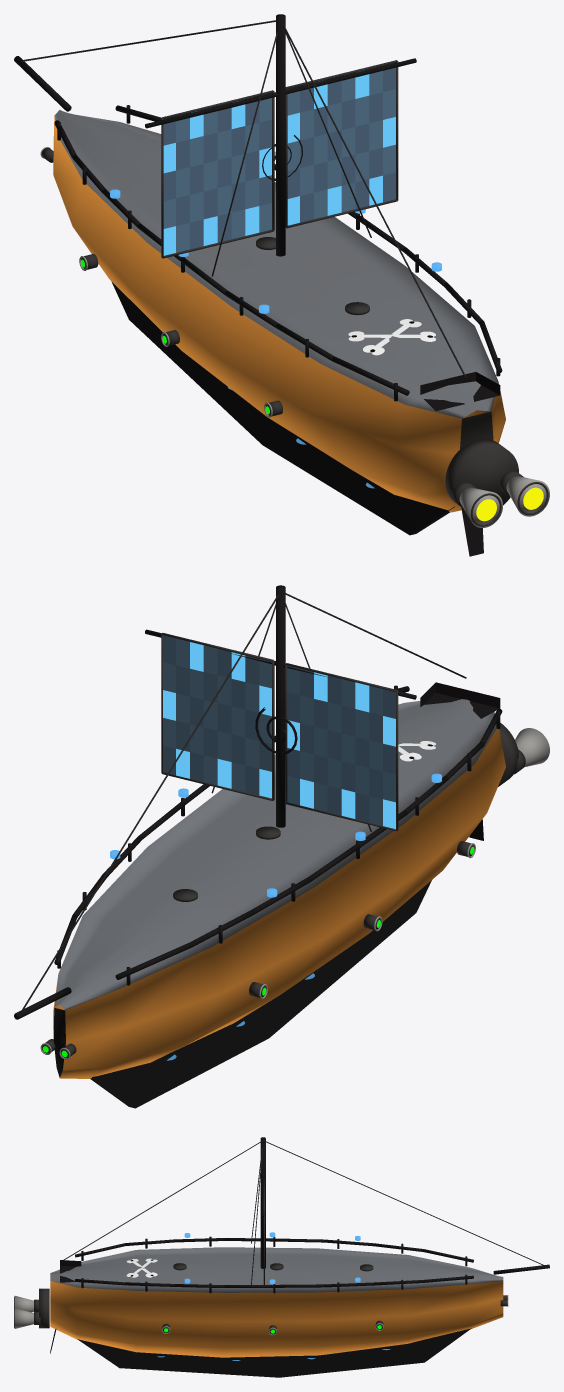
Rendered from Ship_Pirate_4.glb.
3 views of the same model, one above another, from view 1: azimuth 30°, elevation 25°; view 2: azimuth 150°, elevation 25°; view 3: azimuth 270°, elevation 25° (orthographic). The views are drawn at different scales.
Parts seen in each view (by area): view 1: Hull_MetalSailingShipBody, SolarPanelSail_Main_01_RigidHeritageArray, Keel_DeepSpaceSailingKeel, EngineDeck_AftTransomArmoredMount, Mast_Main_DarkMetalHeritageSpar, Yard_Main_01_SolarPanelCrossSpar, SternTransom_LowReinforcedAftDeckCap, RiggingStay_Main_AftTautLine, EngineBell_Port_IronRocketNozzle, EngineBell_Starboard_IronRocketNozzle, EngineEmitter; view 2: Hull_MetalSailingShipBody, SolarPanelSail_Main_01_RigidHeritageArray, Keel_DeepSpaceSailingKeel, Mast_Main_DarkMetalHeritageSpar, SternTransom_LowReinforcedAftDeckCap, RiggingStay_Main_ForwardTautLine, EngineBell_Port_IronRocketNozzle, EngineDeck_AftTransomArmoredMount; view 3: Hull_MetalSailingShipBody, Keel_DeepSpaceSailingKeel, Mast_Main_DarkMetalHeritageSpar, RiggingStay_Main_ForwardTautLine, EngineDeck_AftTransomArmoredMount, RiggingStay_Main_AftTautLine, EngineBell_Starboard_IronRocketNozzle.
Boxes of the visible parts, box(x1,y1,x2,y2) form: Hull_MetalSailingShipBody: box(53, 110, 505, 512); SolarPanelSail_Main_01_RigidHeritageArray: box(163, 64, 395, 255); Keel_DeepSpaceSailingKeel: box(111, 281, 454, 535); EngineDeck_AftTransomArmoredMount: box(445, 439, 518, 508); Mast_Main_DarkMetalHeritageSpar: box(276, 14, 285, 256); Yard_Main_01_SolarPanelCrossSpar: box(145, 58, 416, 128); SternTransom_LowReinforcedAftDeckCap: box(420, 372, 500, 410); RiggingStay_Main_AftTautLine: box(282, 24, 466, 377); EngineBell_Port_IronRocketNozzle: box(459, 487, 502, 527); EngineBell_Starboard_IronRocketNozzle: box(506, 476, 549, 516); EngineEmitter: box(476, 487, 543, 521); Hull_MetalSailingShipBody: box(53, 699, 505, 1078); SolarPanelSail_Main_01_RigidHeritageArray: box(163, 635, 395, 829); Keel_DeepSpaceSailingKeel: box(90, 880, 431, 1108); Mast_Main_DarkMetalHeritageSpar: box(276, 585, 285, 827); SternTransom_LowReinforcedAftDeckCap: box(420, 682, 500, 718); RiggingStay_Main_ForwardTautLine: box(21, 594, 278, 1010); EngineBell_Port_IronRocketNozzle: box(515, 728, 549, 767); EngineDeck_AftTransomArmoredMount: box(498, 723, 518, 786); Hull_MetalSailingShipBody: box(50, 1247, 503, 1357); Keel_DeepSpaceSailingKeel: box(77, 1328, 471, 1377); Mast_Main_DarkMetalHeritageSpar: box(260, 1137, 265, 1268); RiggingStay_Main_ForwardTautLine: box(266, 1141, 544, 1265); EngineDeck_AftTransomArmoredMount: box(39, 1288, 49, 1328); RiggingStay_Main_AftTautLine: box(62, 1142, 260, 1261); EngineBell_Starboard_IronRocketNozzle: box(14, 1308, 33, 1328).
Size of the model in its own units: 1.98 by 3.08 by 6.27.
